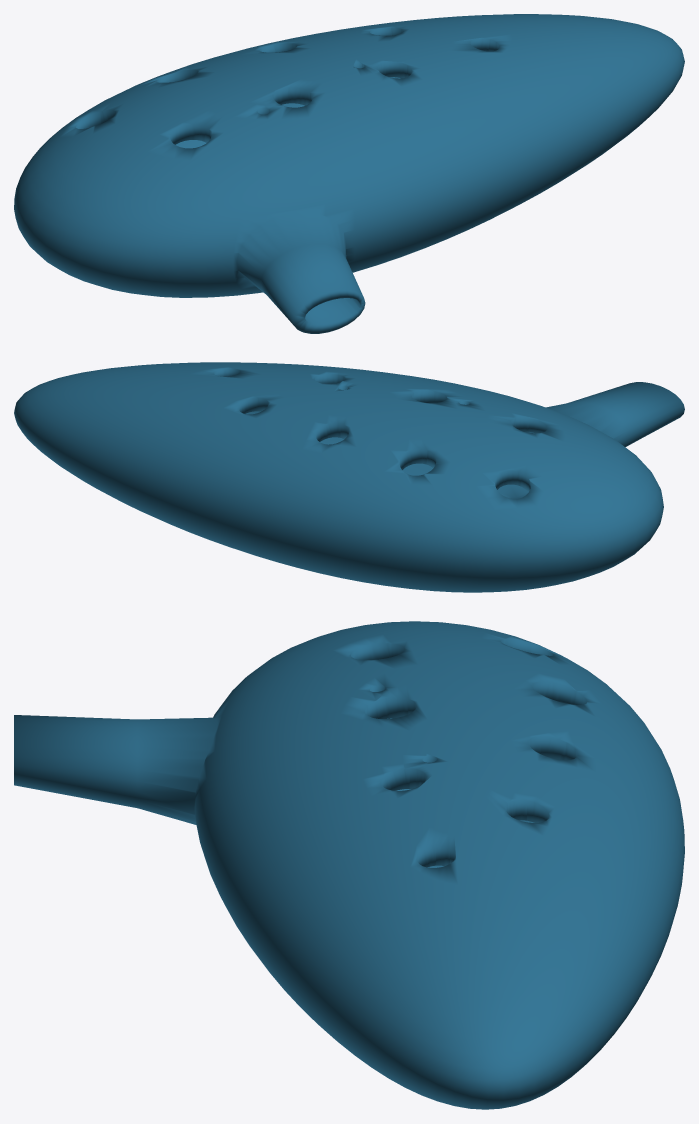
Rendered from A-NEW-20261026-OCARINA-001_LOD1_R5.glb.
The picture shows the model from 3 angles, top to bottom: view 1: azimuth 30°, elevation 25°; view 2: azimuth 150°, elevation 25°; view 3: azimuth 270°, elevation 25°; orthographic projection. The views are drawn at different scales.
Visible parts, largest first — view 1: continuous ceramic body and mouthpiece; view 2: continuous ceramic body and mouthpiece; view 3: continuous ceramic body and mouthpiece.
Part boxes in pixels (x1,y1,x2,y2): continuous ceramic body and mouthpiece: [14, 14, 684, 333]; continuous ceramic body and mouthpiece: [14, 362, 684, 592]; continuous ceramic body and mouthpiece: [14, 621, 684, 1109].
Size of the model in its own units: 0.158 by 0.0386 by 0.1033.
